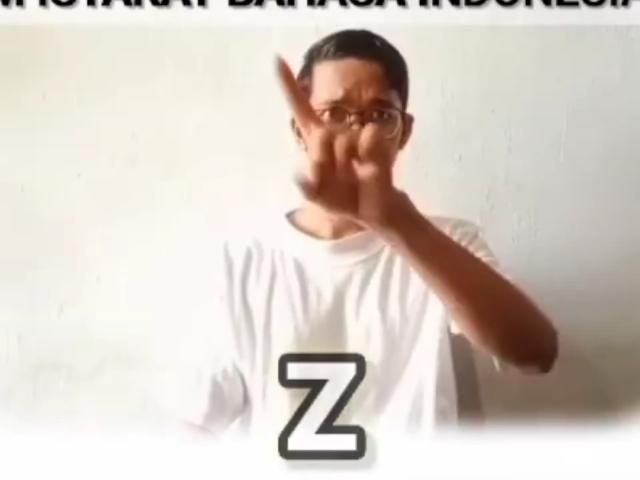Z: (266, 49, 400, 229)
